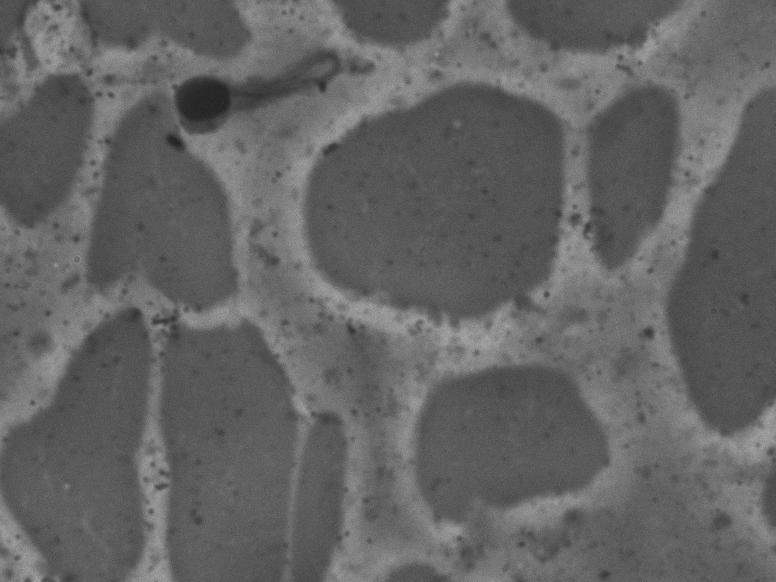Abnormal: (162, 45, 333, 141)
